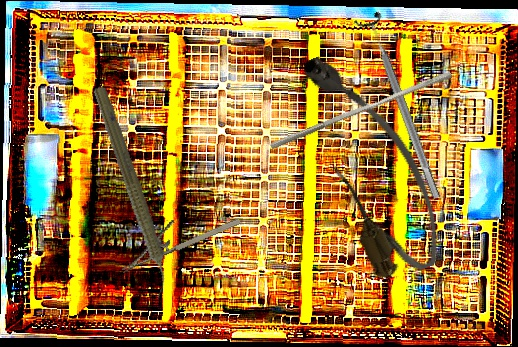Cannula: (286, 37, 457, 288)
Fixation Ring: (352, 10, 451, 204)
Handpiece: (84, 83, 181, 302)
Needle Holder: (111, 197, 243, 274)
Pusher: (269, 64, 453, 157)
